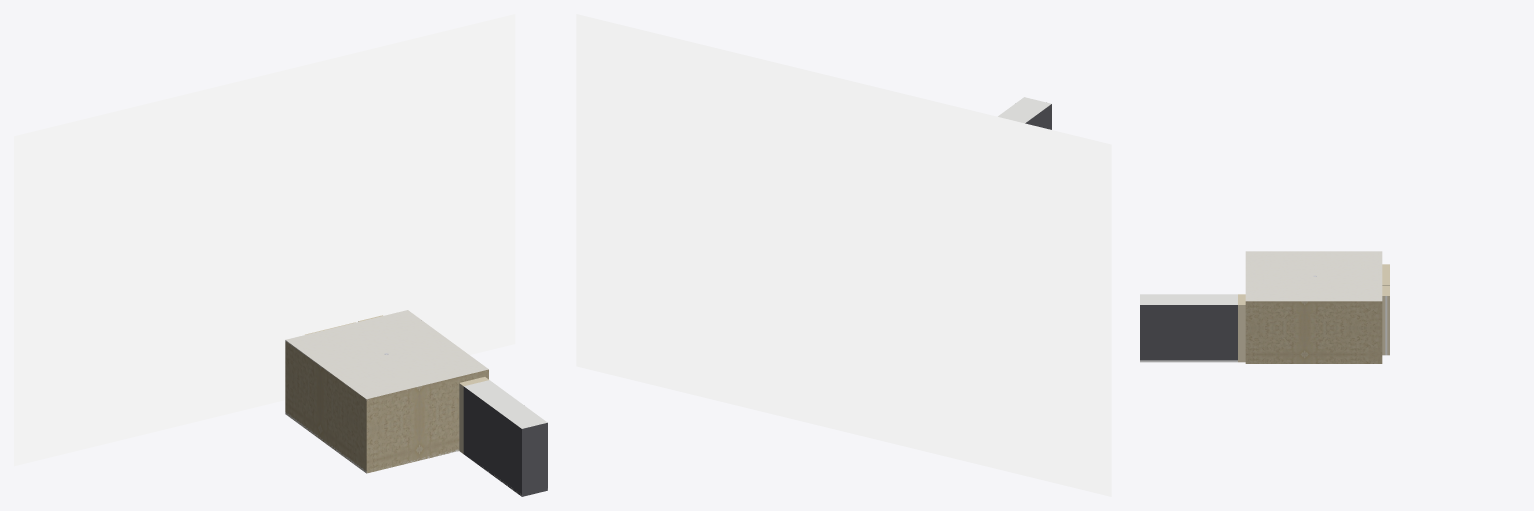
Rendered from room.glb.
3 renders of one model, left to right at view 1: azimuth 30°, elevation 25°; view 2: azimuth 150°, elevation 25°; view 3: azimuth 270°, elevation 25°, orthographic. The views are drawn at different scales.
Parts seen in each view (by area): view 1: Outside_Backdrop, Ceiling, Openings, Wall_y0, Wall_x0; view 2: Outside_Backdrop, Openings; view 3: Wall_x1, Openings, Ceiling.
Boxes of the visible parts, x1=… form: Outside_Backdrop: x1=14, y1=14, x2=515, y2=466; Ceiling: x1=285, y1=310, x2=488, y2=399; Openings: x1=305, y1=315, x2=547, y2=496; Wall_y0: x1=366, y1=369, x2=488, y2=473; Wall_x0: x1=285, y1=341, x2=366, y2=472; Outside_Backdrop: x1=576, y1=14, x2=1111, y2=496; Openings: x1=998, y1=97, x2=1051, y2=129; Wall_x1: x1=1245, y1=301, x2=1382, y2=363; Openings: x1=1140, y1=264, x2=1389, y2=362; Ceiling: x1=1245, y1=251, x2=1382, y2=301.
Bounding box in the file's own units: 15.89 × 10 × 12.41.
Materials: 24 (9 with a texture image).
